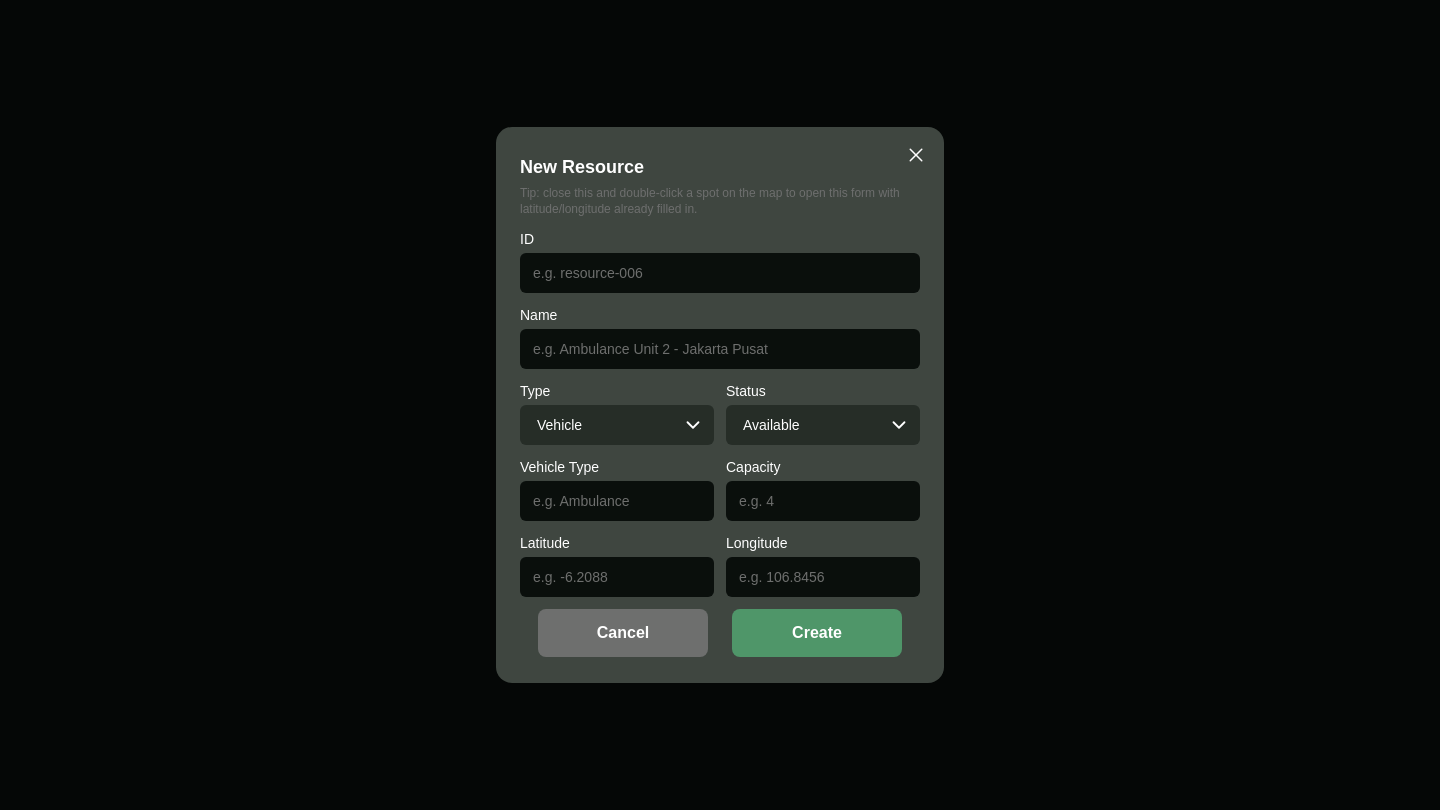
Scenario: CreateResourceModal › blocks submission and shows field errors when the form is invalid
Click the button "Create" at (817, 633), box [732,609,902,657]
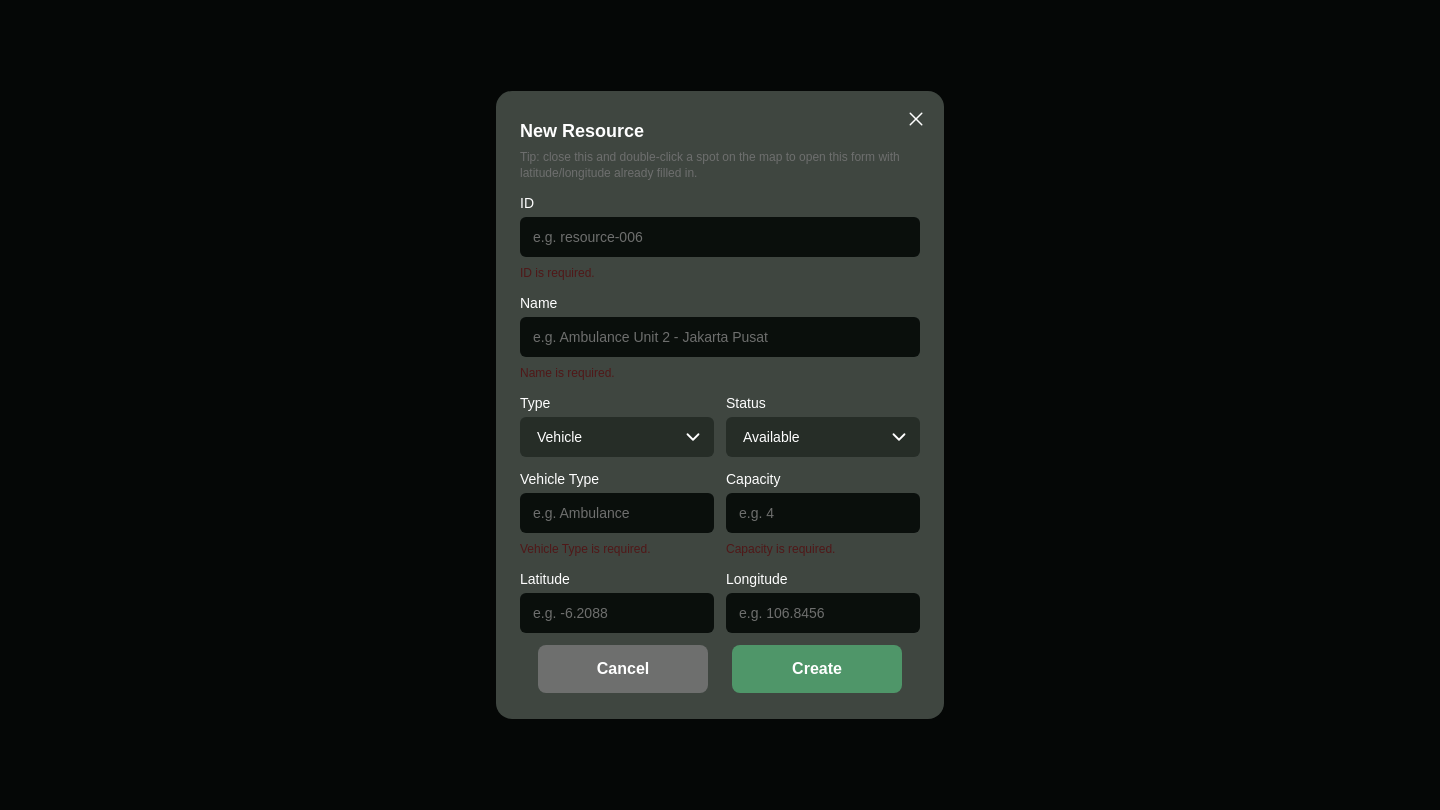
Check: the text "ID is required." is shown, box [520,266,595,280]
